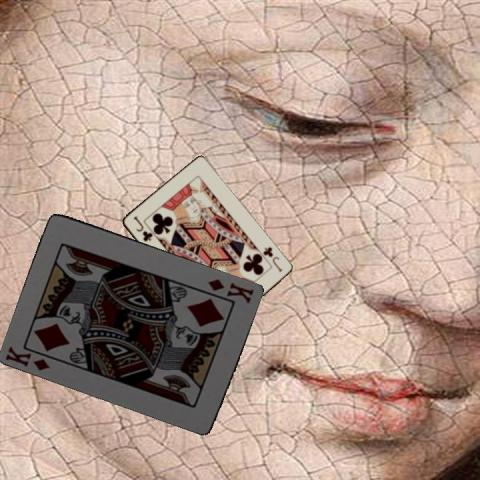Jc: (130, 214, 154, 244), (260, 244, 283, 274)
Kd: (205, 275, 256, 305), (2, 343, 51, 372)
